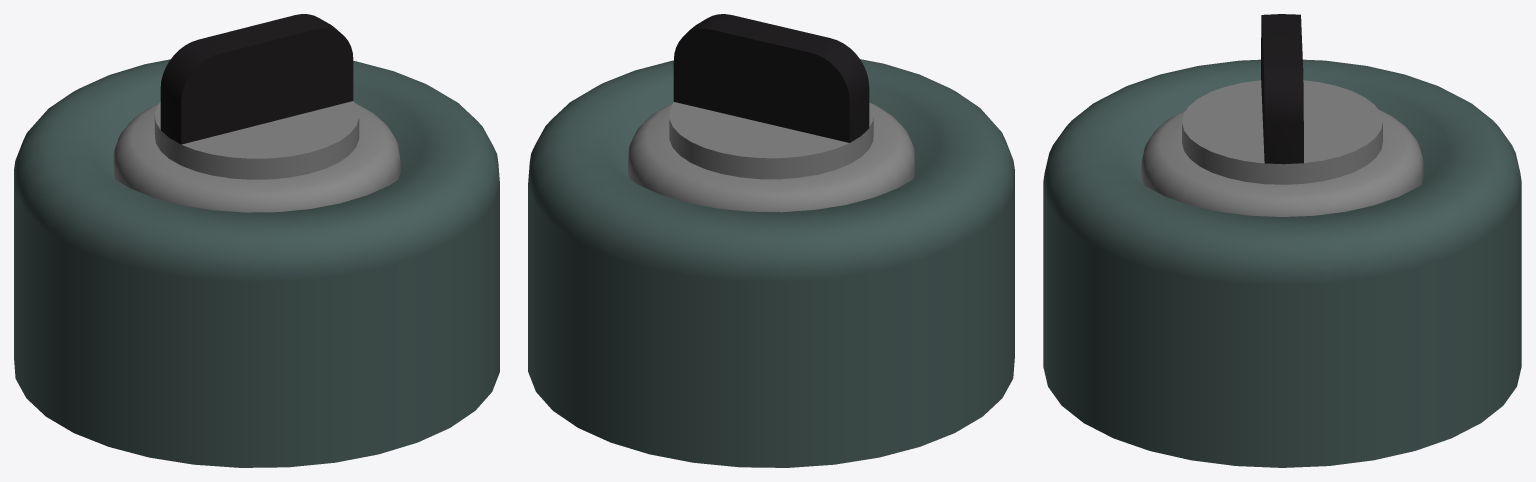
Rendered from safetyknob.fbx.
3 renders of one model, left to right at view 1: azimuth 30°, elevation 25°; view 2: azimuth 150°, elevation 25°; view 3: azimuth 270°, elevation 25°, orthographic.
Parts seen in each view (by area): view 1: knob-base, knob-knob; view 2: knob-base, knob-knob; view 3: knob-base, knob-knob.
Part boxes in pixels (x1,y1,x2,y2): knob-base: (14,59,499,467); knob-knob: (113,14,400,212); knob-base: (528,59,1014,467); knob-knob: (628,14,914,212); knob-base: (1043,59,1521,467); knob-knob: (1141,14,1423,216).
Bounding box in the file's own units: 60.37 × 45.23 × 60.37.
